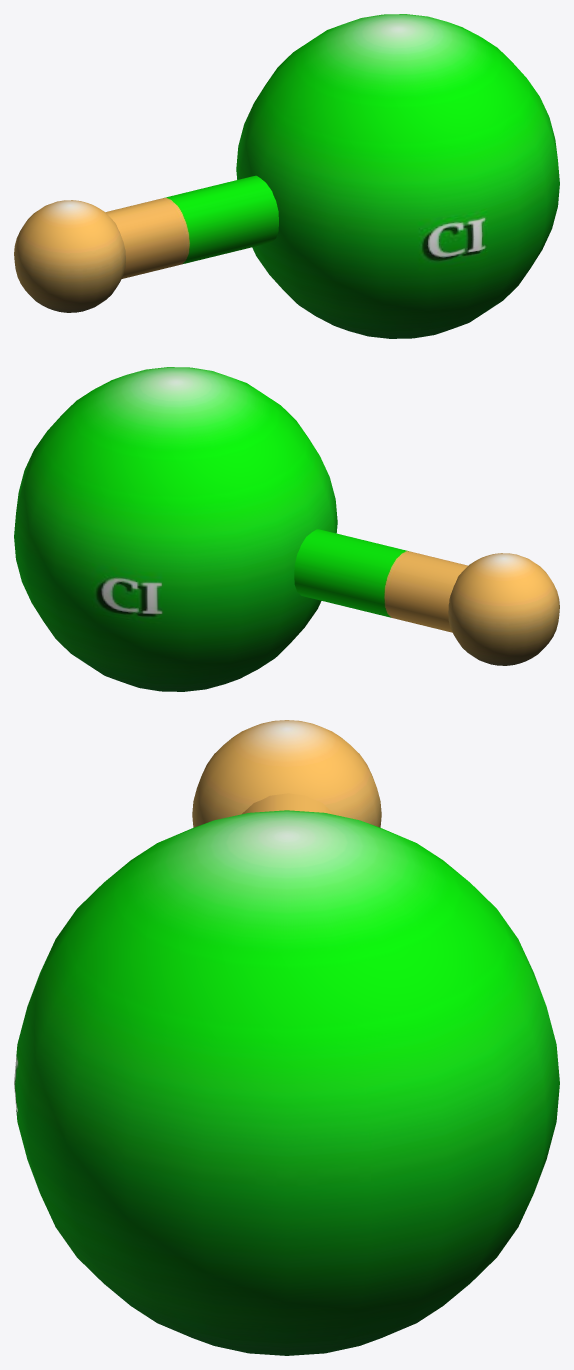
File: HCl.dae
3 renders of one model, top to bottom at view 1: azimuth 30°, elevation 25°; view 2: azimuth 150°, elevation 25°; view 3: azimuth 270°, elevation 25°, orthographic. The views are drawn at different scales.
Visible parts, largest first — view 1: polySurface6; view 2: polySurface6; view 3: polySurface6.
Boxes of the visible parts, bbox=[...] form: polySurface6: bbox=[14, 14, 559, 338]; polySurface6: bbox=[14, 367, 559, 691]; polySurface6: bbox=[14, 720, 559, 1355].
Bounding box in the file's own units: 3.35 × 1.82 × 1.82.
1 material, 1 textured.
